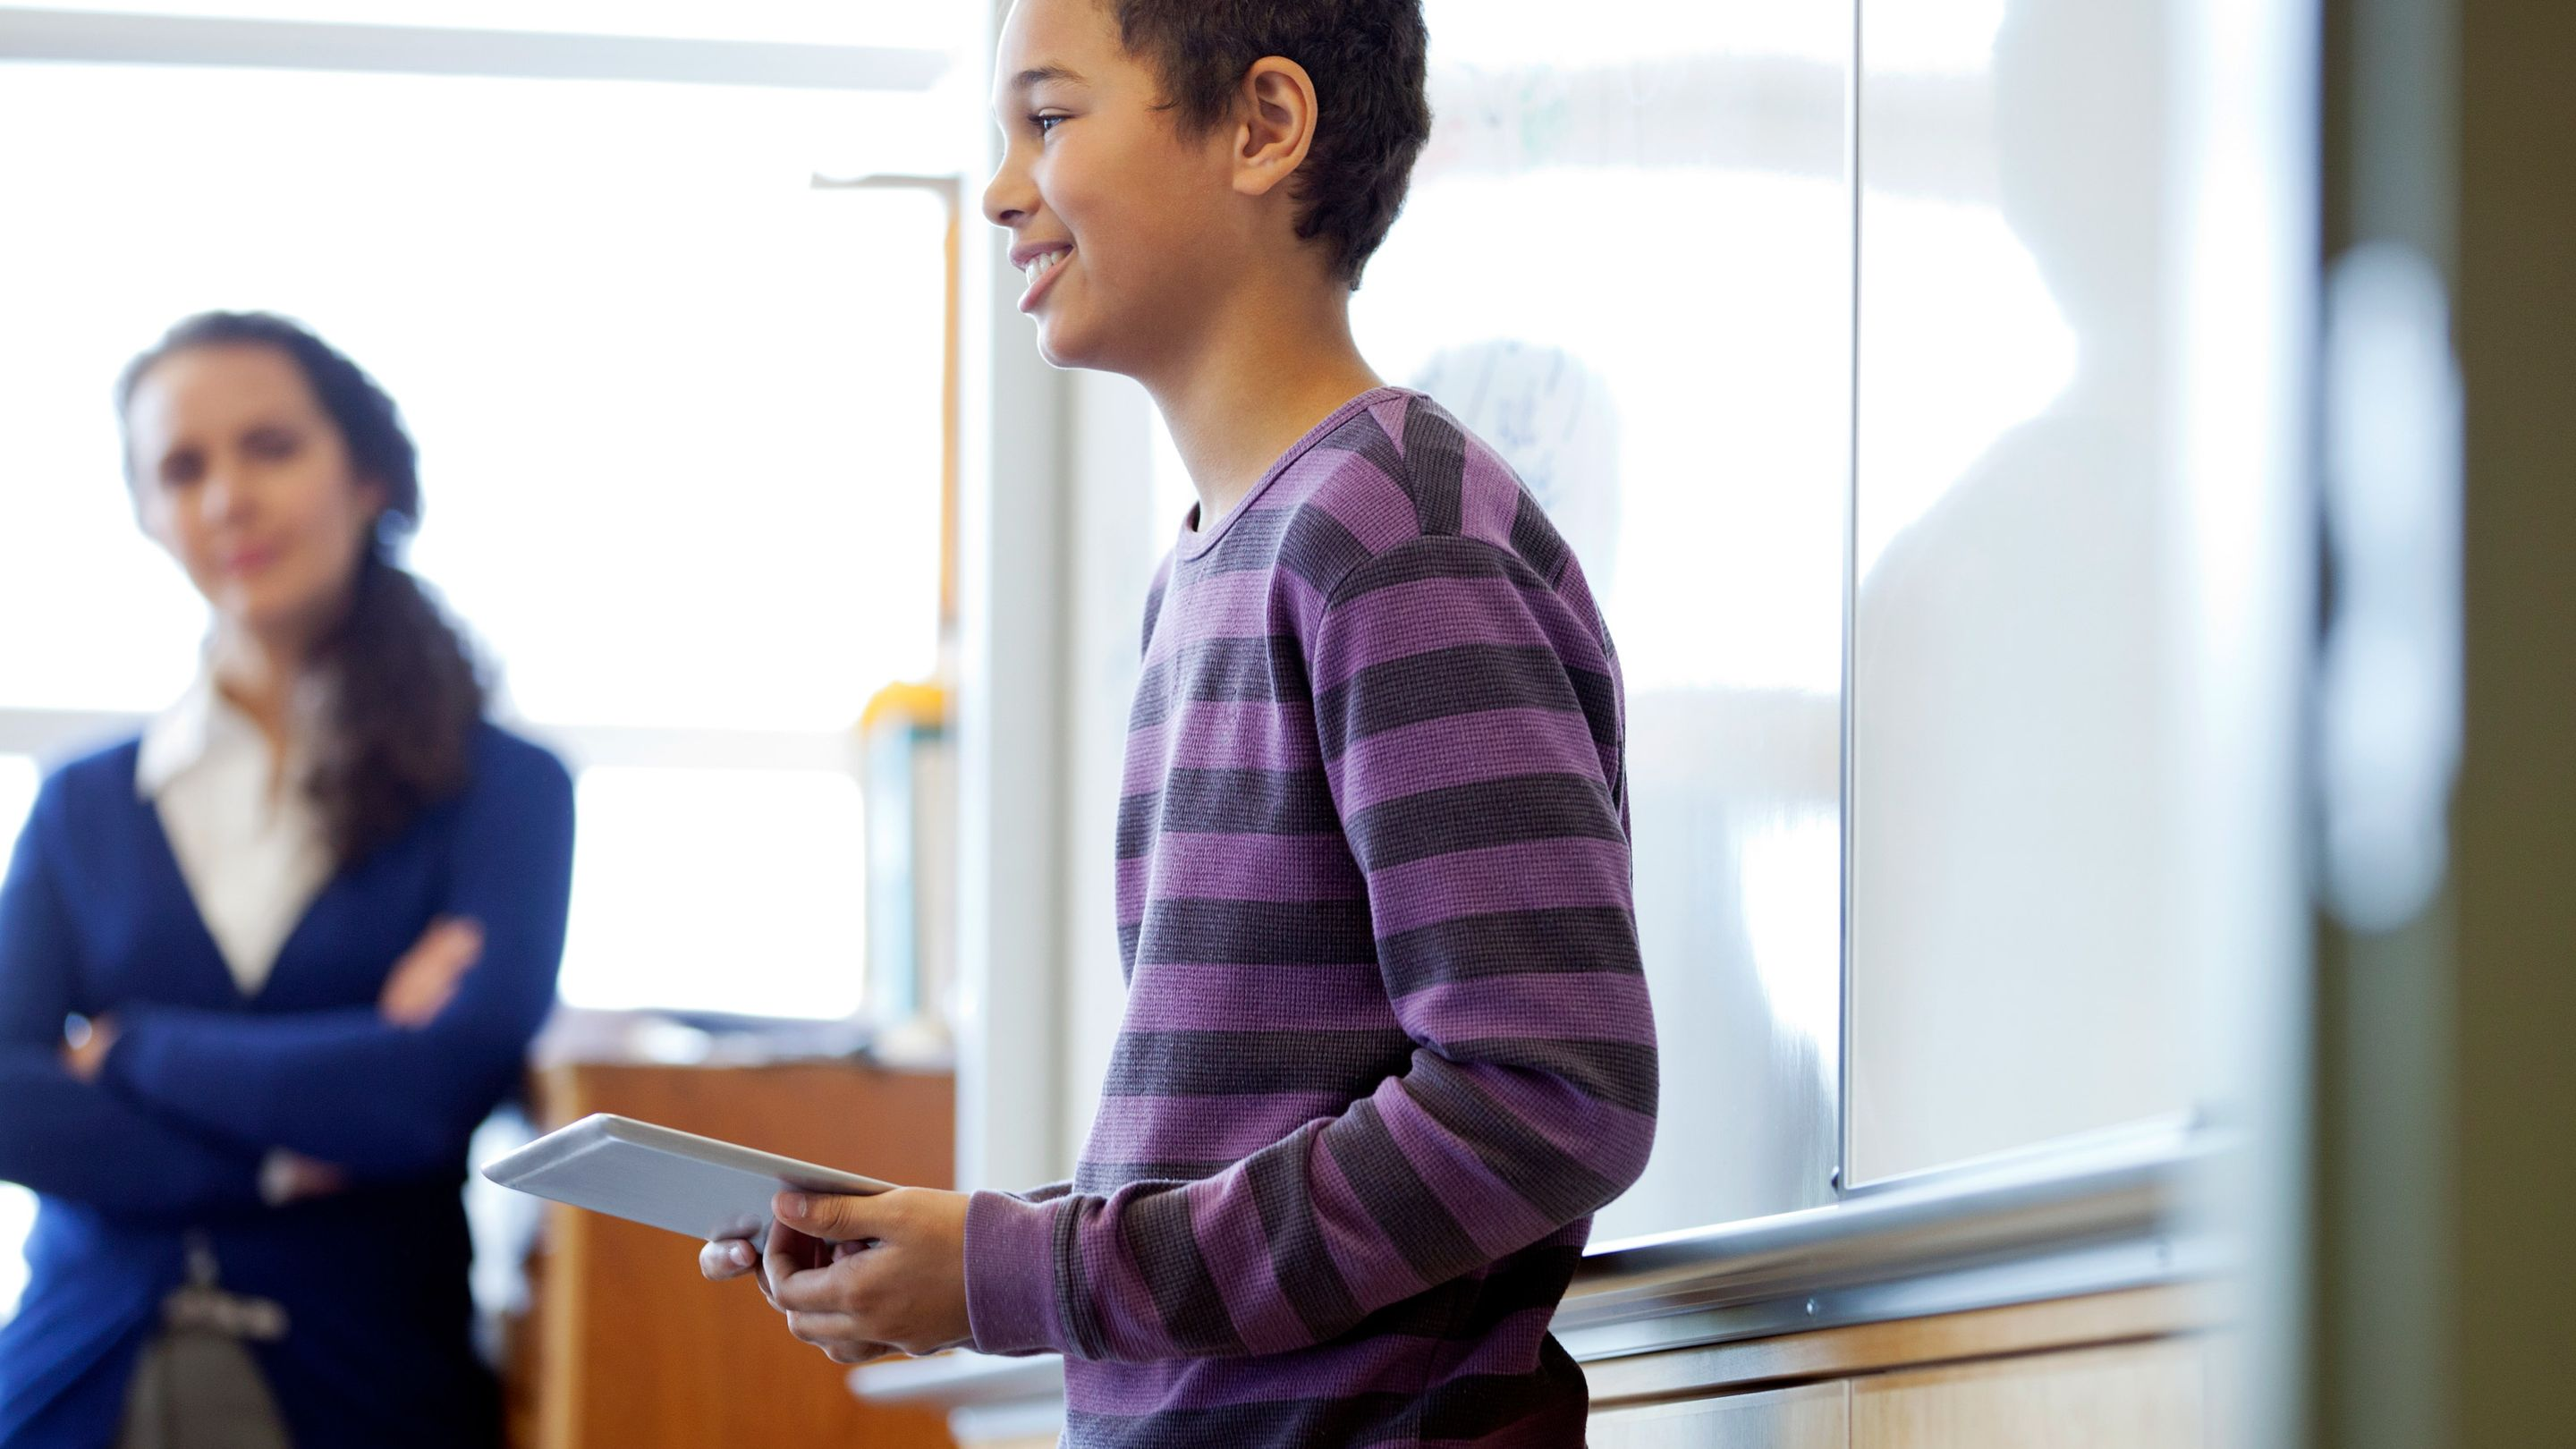Person: (781, 1, 1706, 1449), (6, 276, 622, 1449)
